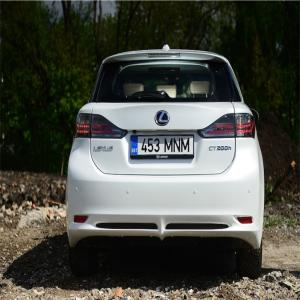Vehicle-registration-plate: (132, 129, 200, 170)
